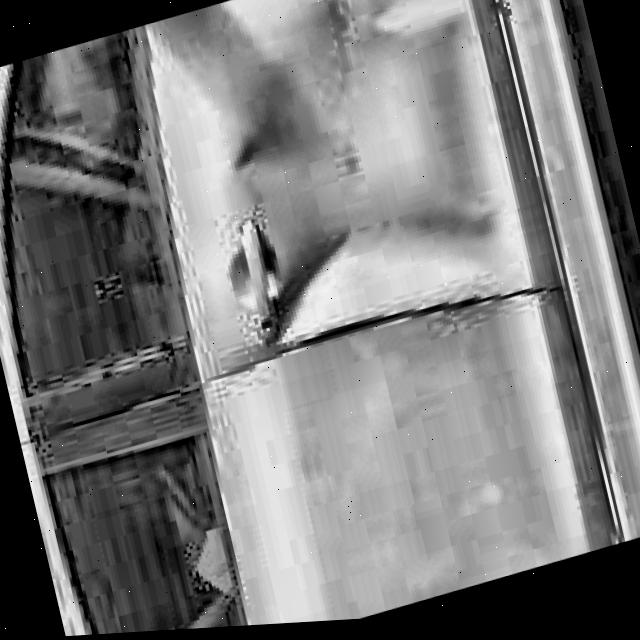door_dent: (209, 0, 512, 332)
